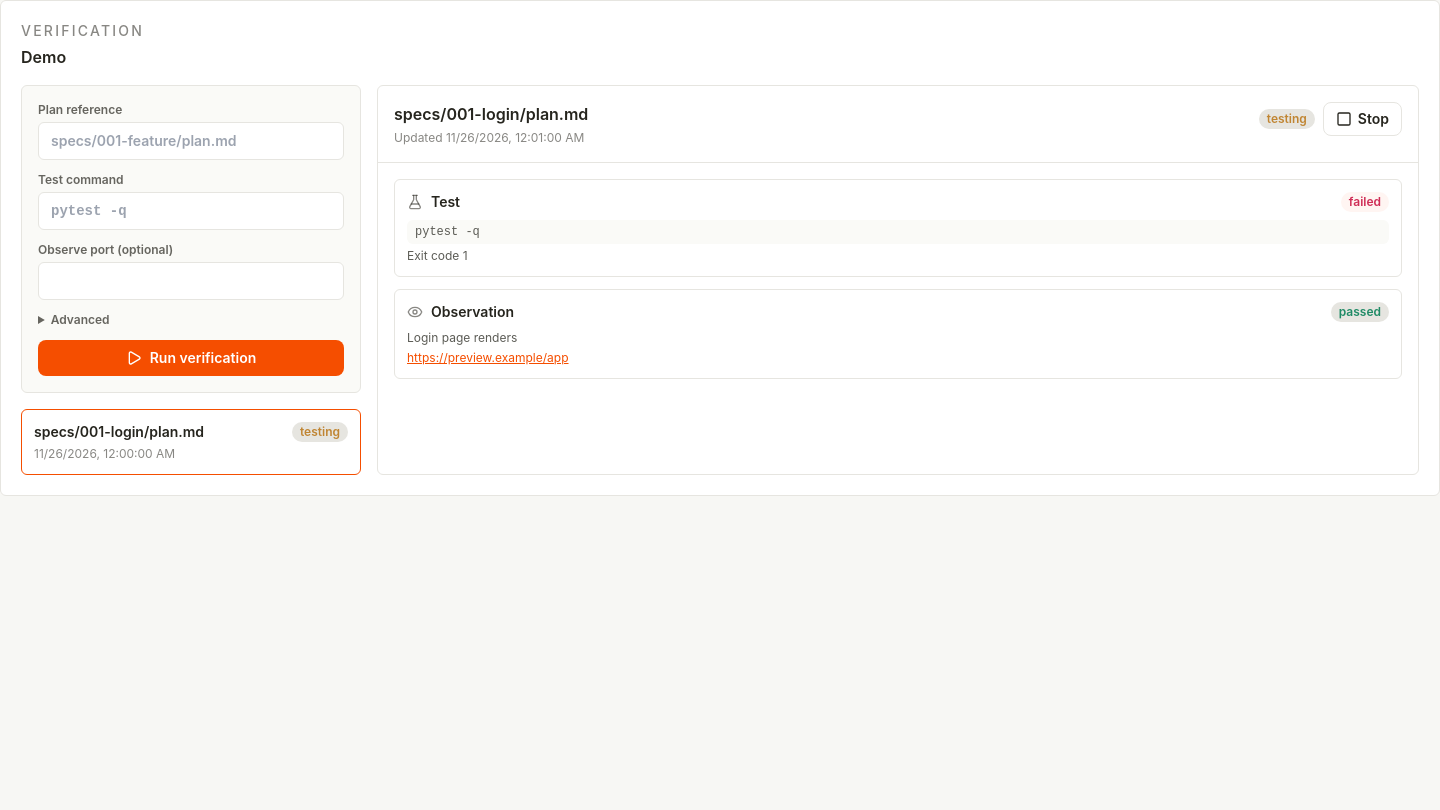
Test: VerificationPanel › shows why a run could not be stopped
Click the button "Stop".
click(1362, 119)  # box [1323,102,1402,136]
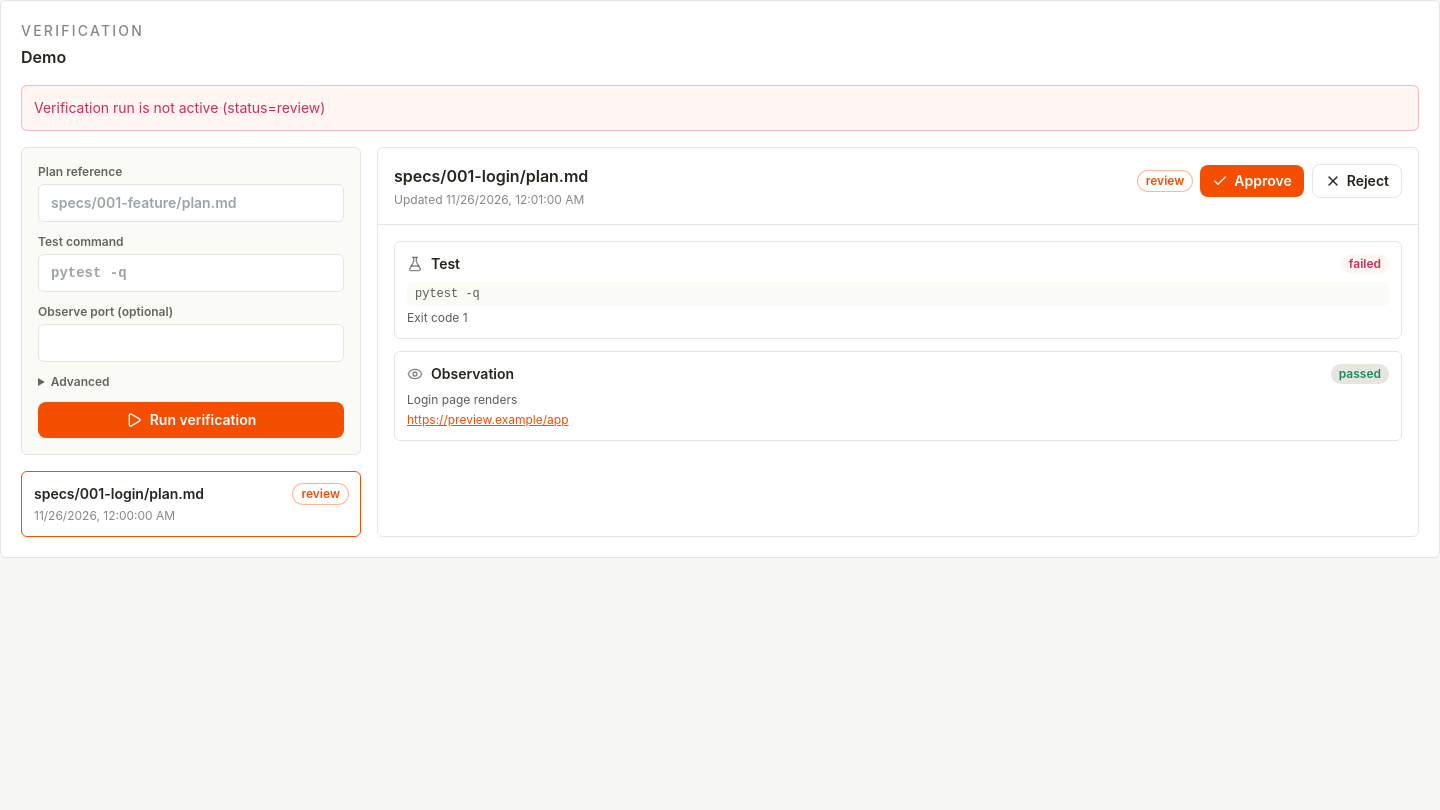
Now the message shows "not active", box [34,99,325,116]
Now the button "Approve" is shown, box [1200,165,1304,197]
